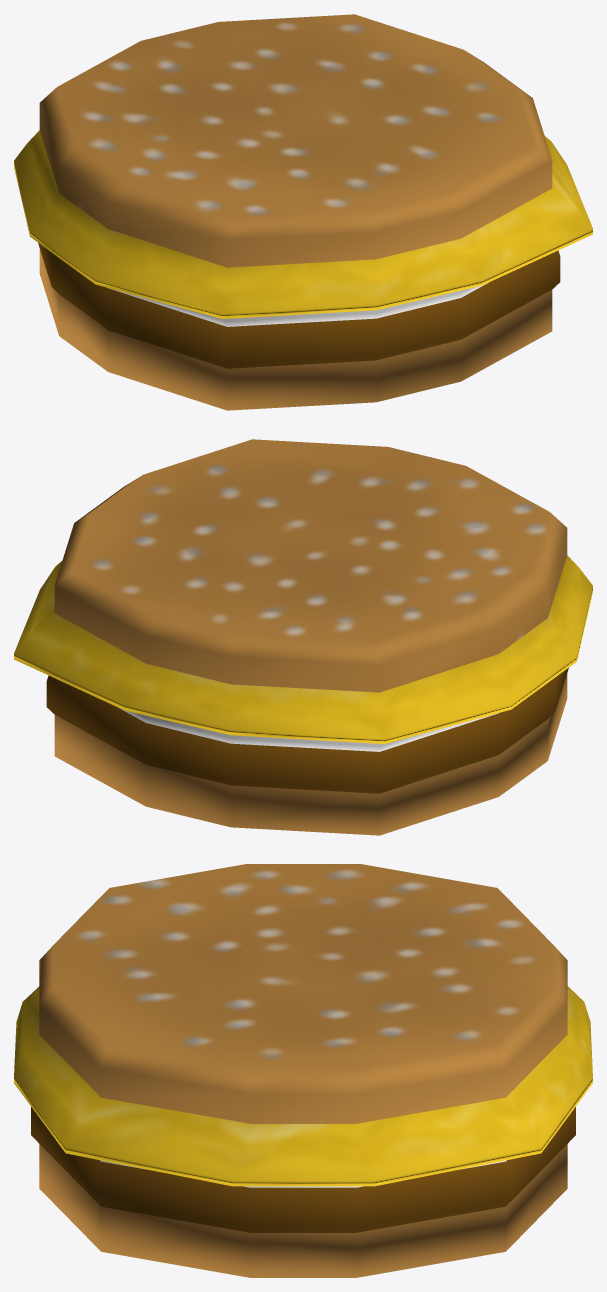
Rendered from Boss1.fbx.
3 renders of one model, top to bottom at view 1: azimuth 30°, elevation 25°; view 2: azimuth 150°, elevation 25°; view 3: azimuth 270°, elevation 25°, orthographic. The views are drawn at different scales.
Visible parts, largest first — view 1: pCube1; view 2: pCube1; view 3: pCube1.
Part boxes in pixels (bbox=[...]): pCube1: bbox=[14, 14, 592, 410]; pCube1: bbox=[14, 439, 592, 835]; pCube1: bbox=[14, 864, 592, 1277].
Bounding box in the file's own units: 167 × 62.69 × 164.
Materials: 1 (1 with a texture image).
